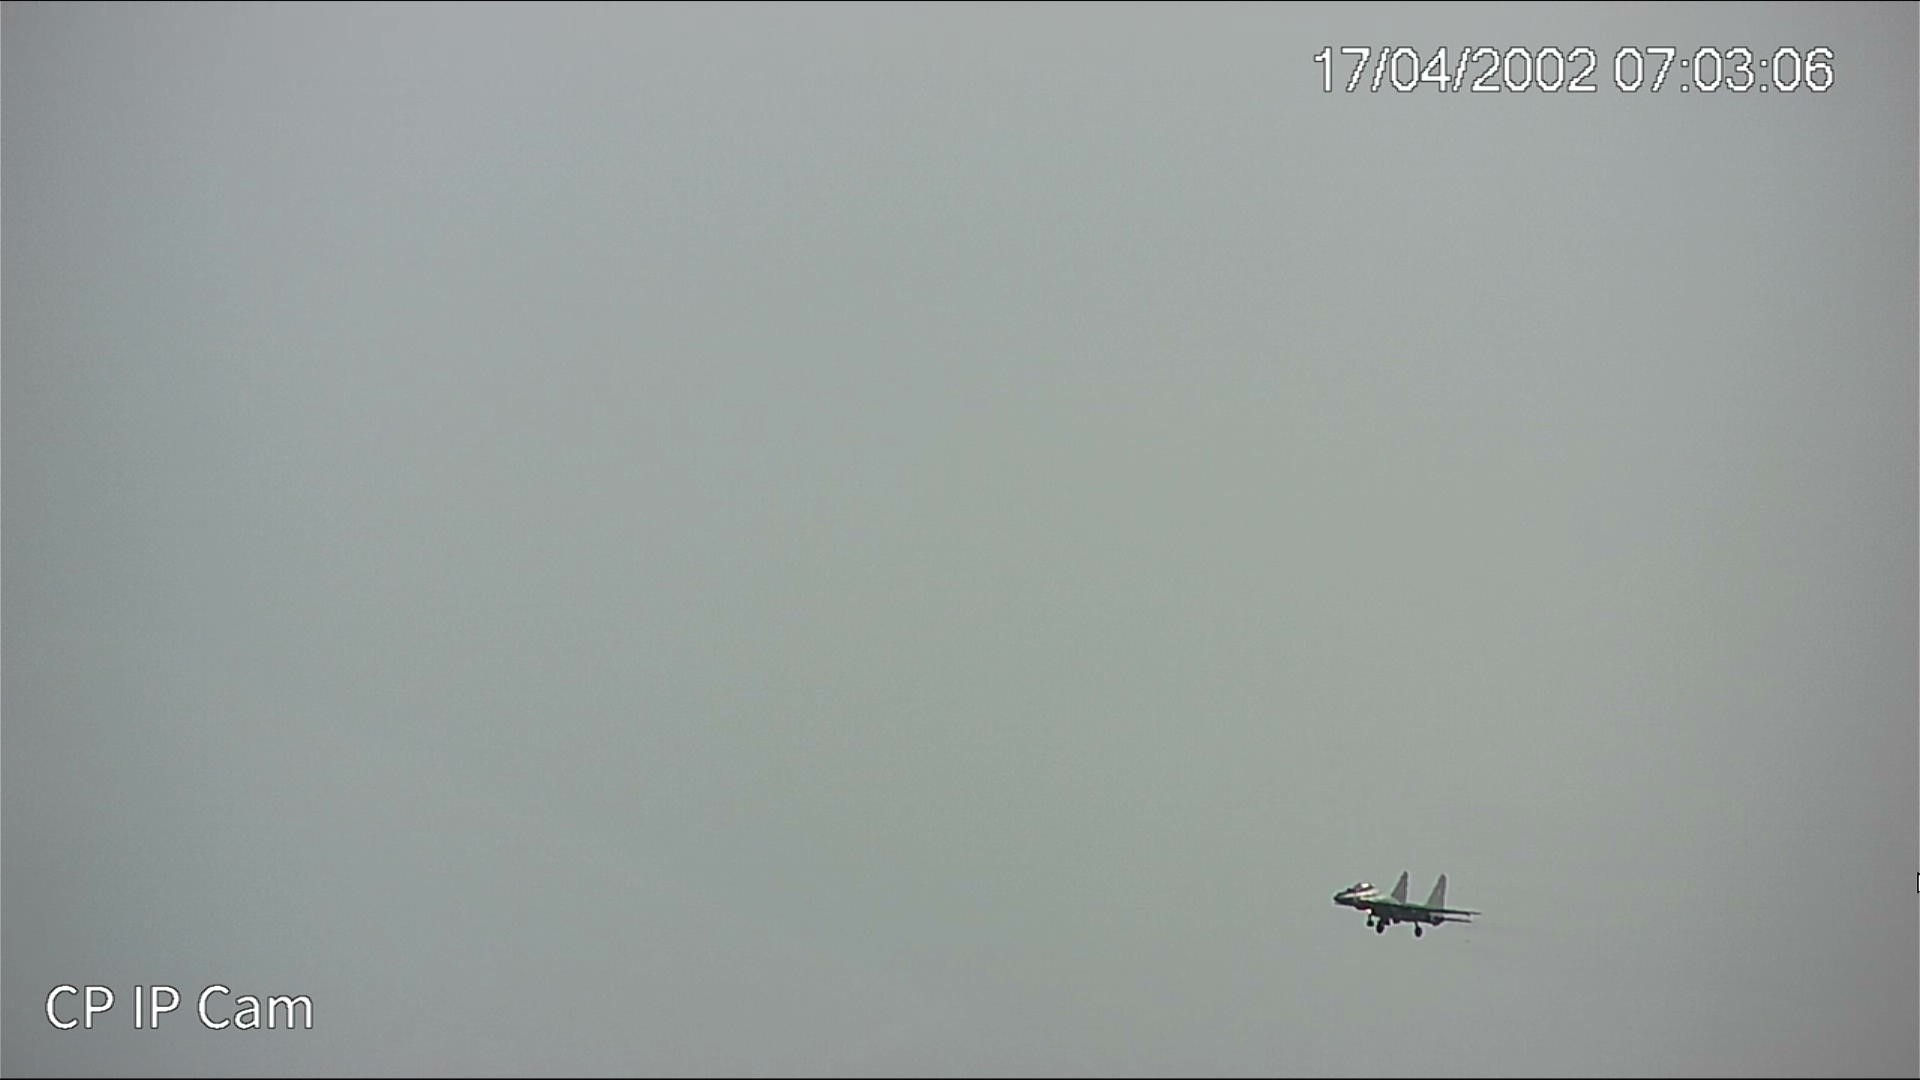SU_30: (1331, 872, 1484, 939)
